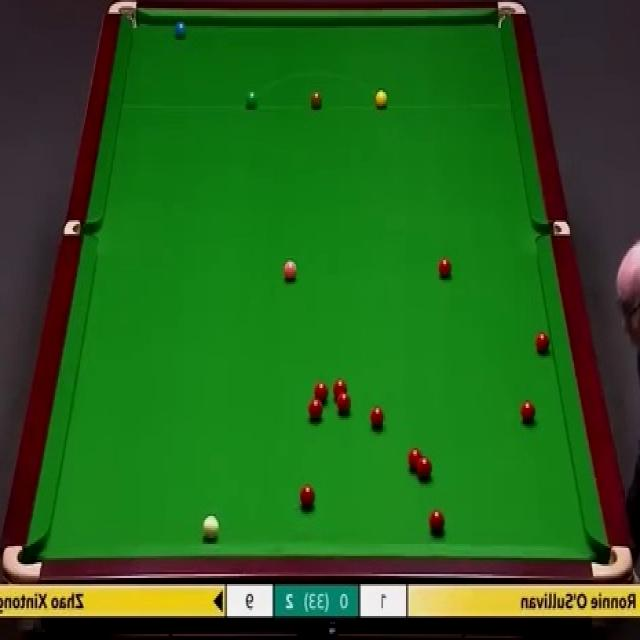blue-ball: (172, 18, 188, 43)
brown-ball: (309, 91, 323, 111)
green-ball: (244, 90, 258, 112)
pink-ball: (280, 256, 299, 284)
red-ball: (520, 397, 538, 427), (427, 509, 446, 537), (415, 457, 434, 482), (299, 485, 315, 512), (534, 332, 551, 357), (368, 408, 384, 432), (336, 393, 352, 416), (437, 256, 452, 280), (332, 379, 349, 400), (406, 448, 422, 470), (308, 398, 323, 420), (313, 382, 329, 402)
white-ball: (201, 513, 221, 541)
yellow-ball: (374, 90, 388, 110)
